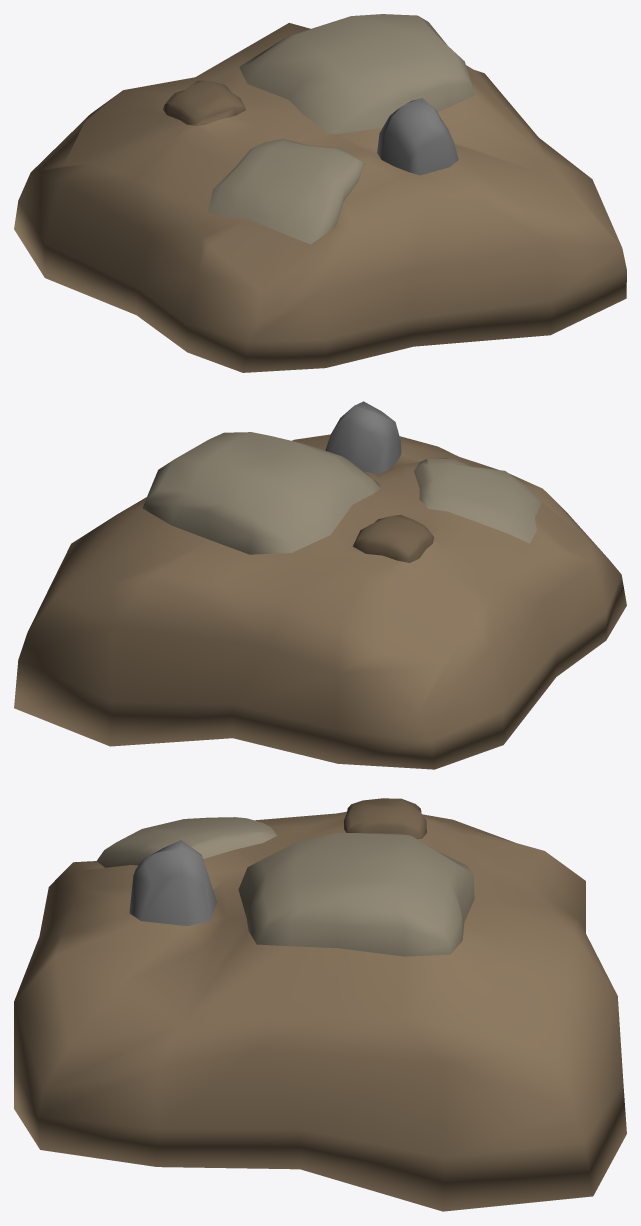
The model's file is Dirt_Unprepped.fbx.
3 views of the same model, one above another, from view 1: azimuth 30°, elevation 25°; view 2: azimuth 150°, elevation 25°; view 3: azimuth 270°, elevation 25° (orthographic). The views are drawn at different scales.
Parts seen in each view (by area): view 1: Dirt_Unprepped; view 2: Dirt_Unprepped; view 3: Dirt_Unprepped.
Part boxes in pixels (<box>): Dirt_Unprepped: <box>14,14,626,372</box>; Dirt_Unprepped: <box>14,401,626,769</box>; Dirt_Unprepped: <box>14,798,626,1211</box>.
Bounding box in the file's own units: 93.94 × 43.97 × 93.94.
